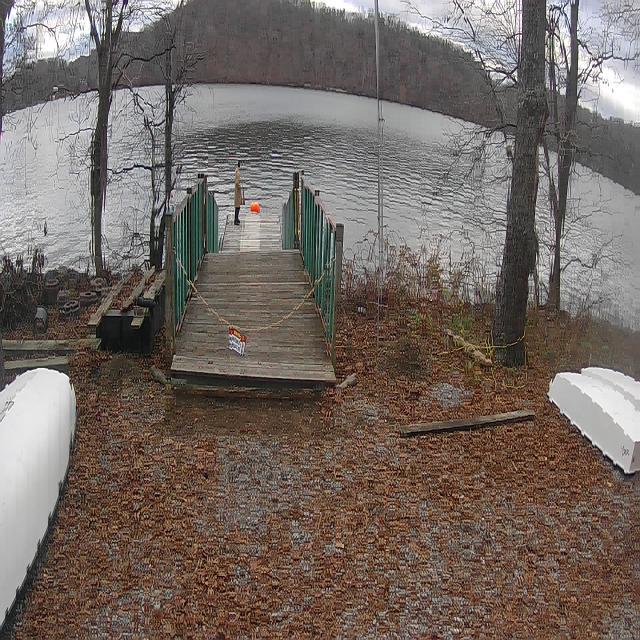Buoy: (248, 199, 262, 217)
